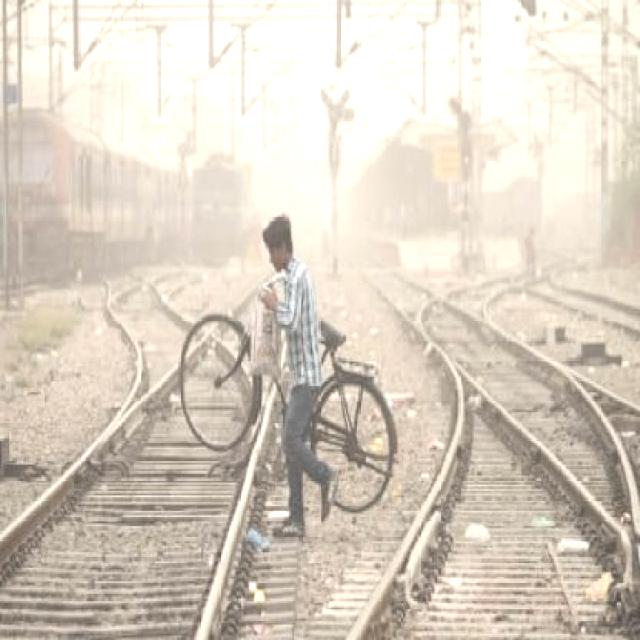Person: (250, 213, 338, 544)
